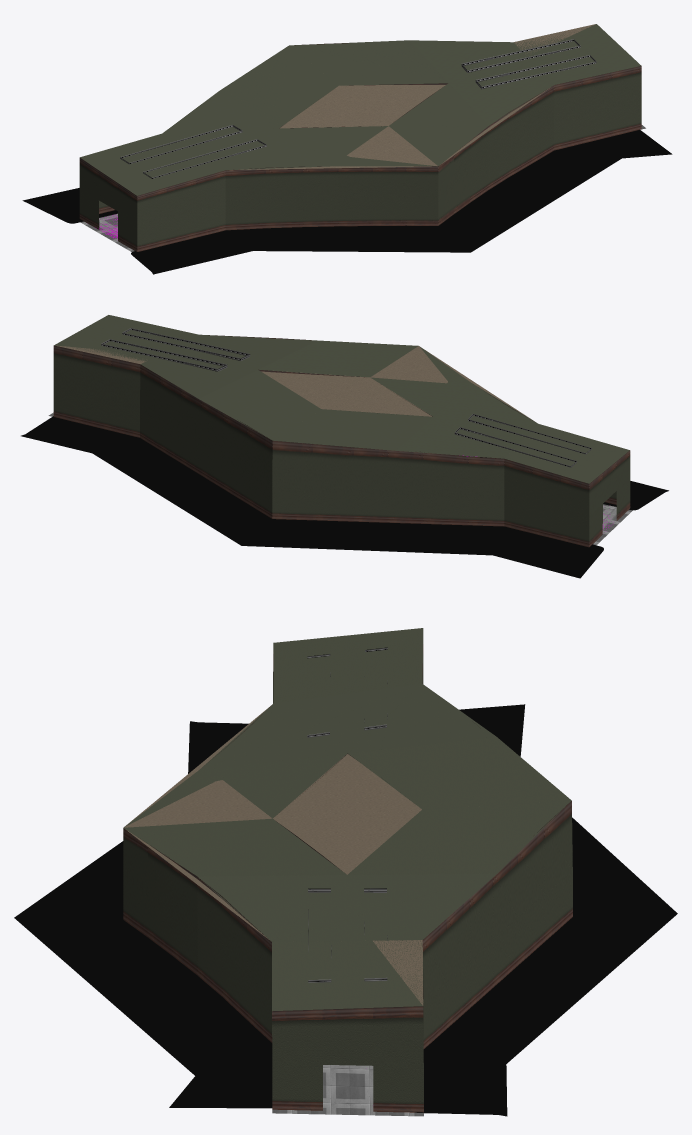
Rendered from office_diamond_room.fbx.
3 views of the same model, one above another, from view 1: azimuth 30°, elevation 25°; view 2: azimuth 150°, elevation 25°; view 3: azimuth 270°, elevation 25° (orthographic). The views are drawn at different scales.
Visible parts, largest first — view 1: Ceiling3, groundShadow_1, W8, Ceiling, W9, W6, W12, W11, LongLights:Lights1, LongLights:Lights2, wall, wall31 (+3 smaller); view 2: Ceiling3, groundShadow_1, W10, W14, W16, Ceiling, W13, W11, LongLights:Lights1, LongLights:Lights2, LongLights:Lights4, floor (+3 smaller); view 3: Ceiling3, groundShadow_1, W14, Ceiling, W9, W15, floor.
Boxes of the visible parts, x1,y1,x2,y2 form: Ceiling3: (80,24,641,195); groundShadow_1: (22,130,672,274); W8: (225,166,438,230); Ceiling: (230,24,595,170); W9: (438,85,554,225); W6: (554,66,641,150); W12: (137,170,225,251); W11: (79,158,137,222); LongLights:Lights1: (461,39,580,72); LongLights:Lights2: (475,55,596,89); wall: (79,189,99,229); wall31: (118,211,137,251); Ceiling3: (54,315,629,483); groundShadow_1: (21,416,668,578); W10: (272,440,504,526); W14: (140,364,272,518); W16: (53,345,140,437); Ceiling: (56,345,534,421); W13: (504,459,589,547); W11: (589,450,630,516); LongLights:Lights1: (101,339,227,371); LongLights:Lights2: (122,328,250,360); LongLights:Lights4: (454,427,576,467); floor: (48,412,632,545); Ceiling3: (123,628,571,1011); groundShadow_1: (14,704,677,1116); W14: (422,801,572,1048); Ceiling: (124,653,423,1005); W9: (123,828,272,1042); W15: (272,1006,423,1112); floor: (272,1065,423,1116).
Size of what is drawn, in the model's own units: 305 by 38.22 by 197.
